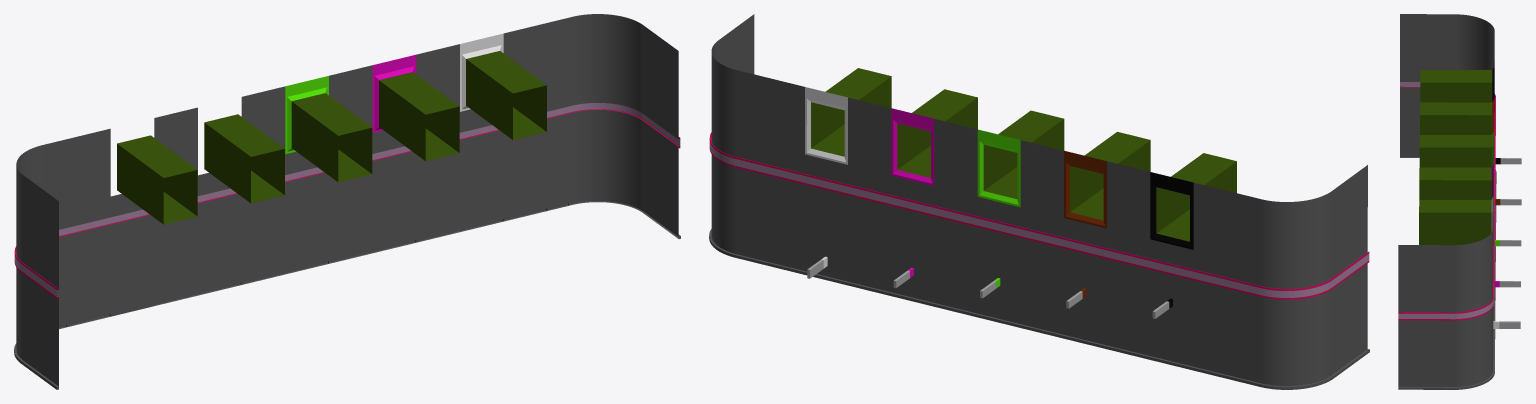
The model's file is Usine_v1.3.fbx.
The picture shows the model from 3 angles, left to right: view 1: azimuth 30°, elevation 25°; view 2: azimuth 150°, elevation 25°; view 3: azimuth 270°, elevation 25°; orthographic projection. The views are drawn at different scales.
Visible parts, largest first — view 1: polySurface2922; view 2: polySurface2922; view 3: polySurface2922.
Boxes of the visible parts, x1,y1,x2,y2 form: polySurface2922: [14, 14, 680, 389]; polySurface2922: [709, 14, 1369, 389]; polySurface2922: [1398, 14, 1521, 389].
Bounding box in the file's own units: 9059 × 2619 × 2034.
